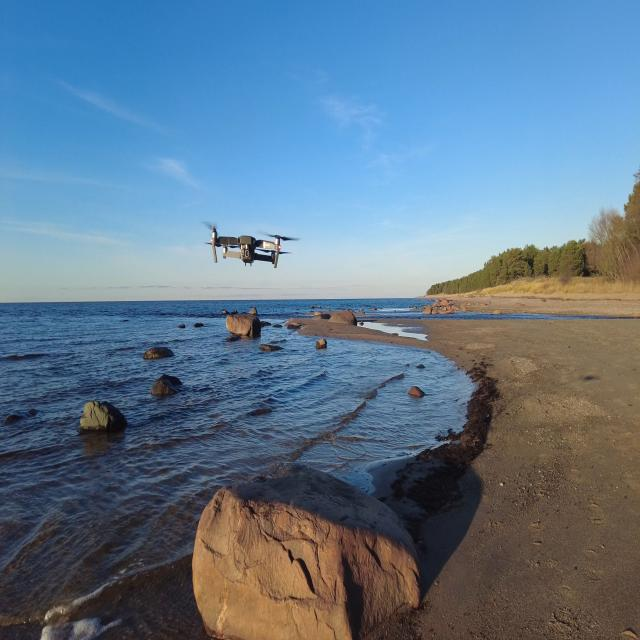Drone: (211, 231, 298, 269)
